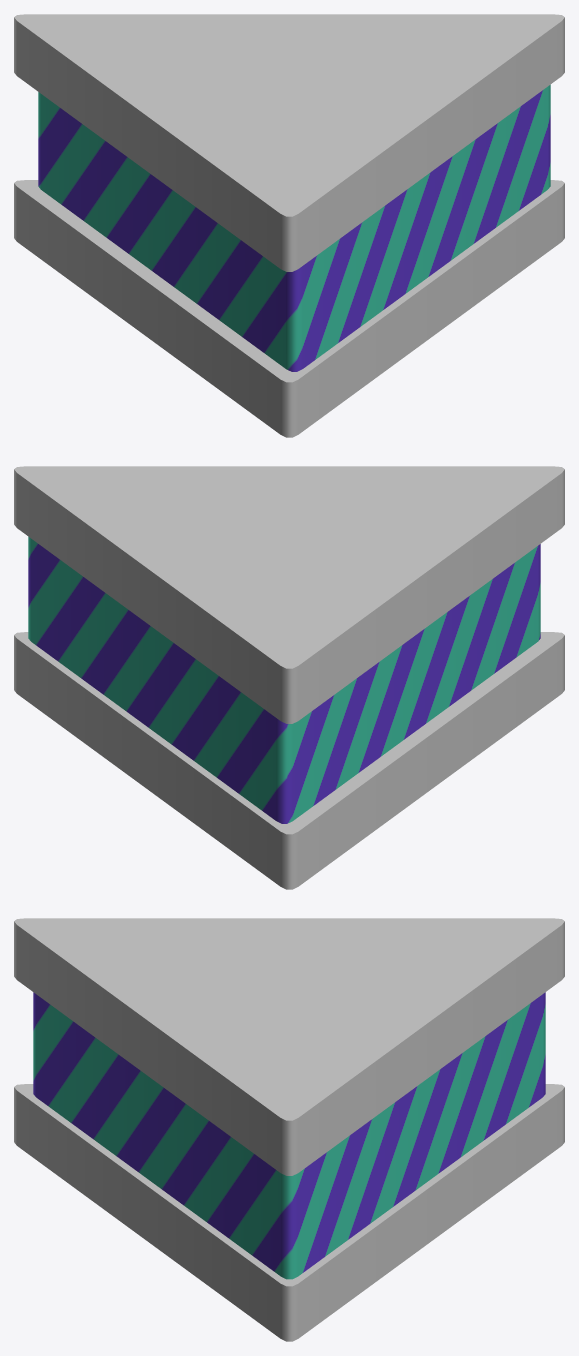
Rendered from GREEN_Triangle_move.FBX.
3 renders of one model, top to bottom at view 1: azimuth 30°, elevation 25°; view 2: azimuth 150°, elevation 25°; view 3: azimuth 270°, elevation 25°, orthographic.
Visible parts, largest first — view 1: GREEN_Triangle_move, RotateMesh; view 2: GREEN_Triangle_move, RotateMesh; view 3: GREEN_Triangle_move, RotateMesh.
Boxes of the visible parts, box(x1,y1,x2,y2) form: GREEN_Triangle_move: box(14, 14, 564, 437); RotateMesh: box(38, 84, 550, 371); GREEN_Triangle_move: box(14, 466, 564, 889); RotateMesh: box(28, 536, 540, 823); GREEN_Triangle_move: box(14, 918, 564, 1341); RotateMesh: box(33, 992, 545, 1279).
Size of the model in its own units: 53.04 by 27 by 61.02.
